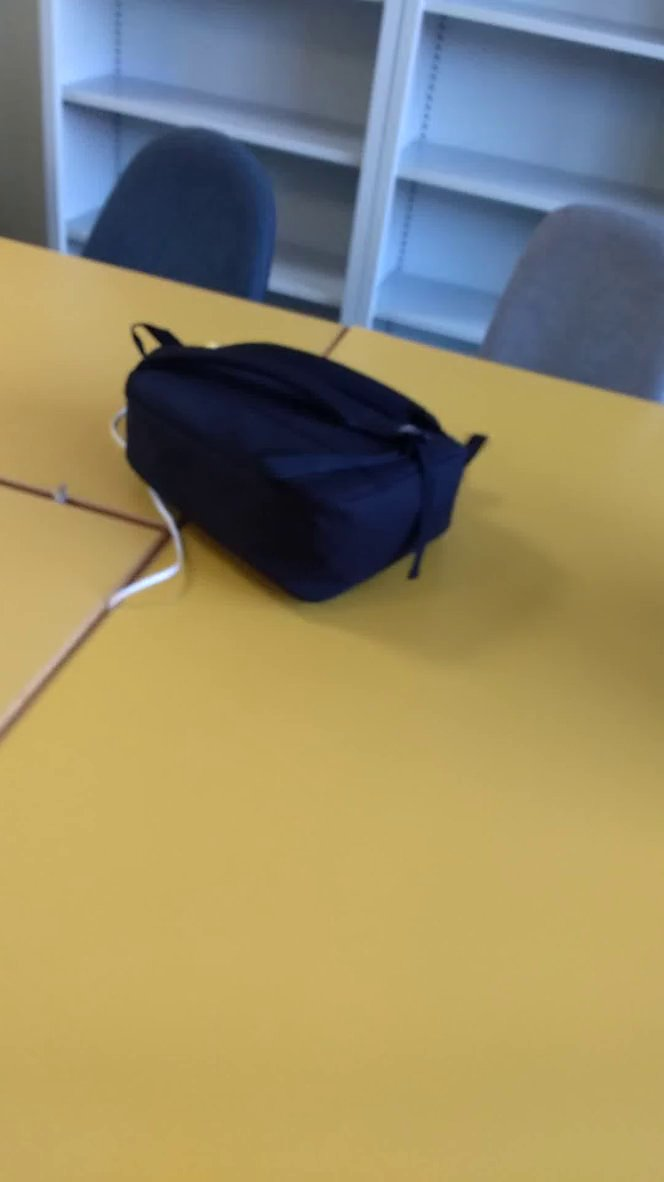bag: (103, 308, 500, 620)
chair: (448, 175, 664, 443), (58, 108, 293, 340)
